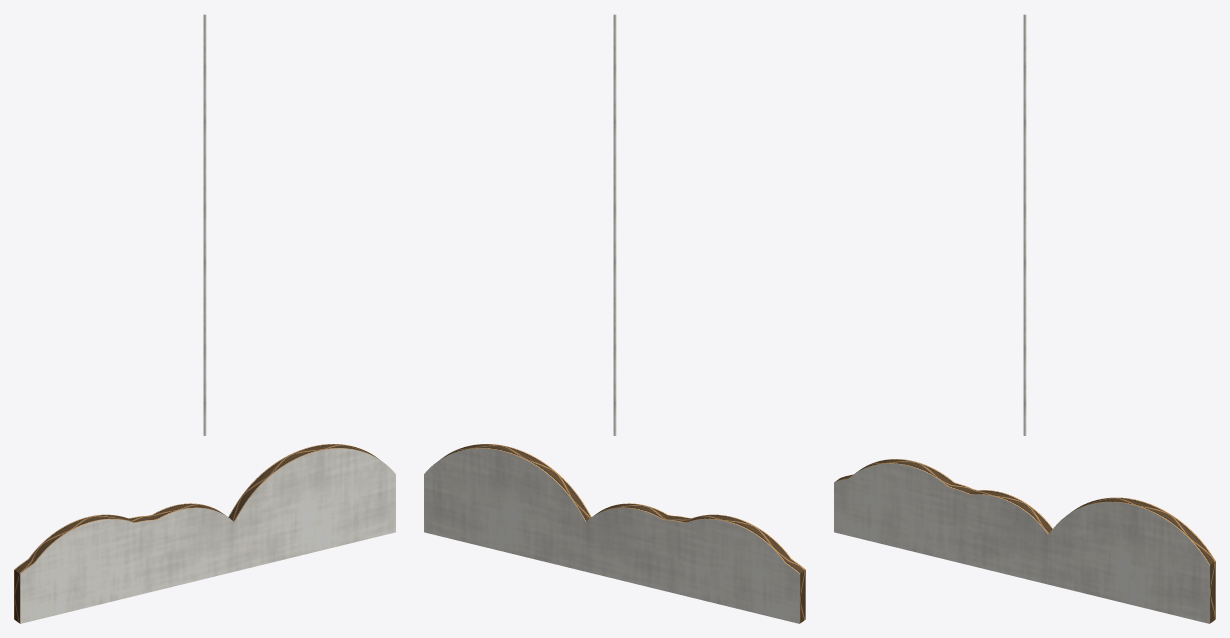
The model's file is cloud_cutout_00.gltf.
The picture shows the model from 3 angles, left to right: view 1: azimuth 30°, elevation 25°; view 2: azimuth 150°, elevation 25°; view 3: azimuth 330°, elevation 25°; orthographic projection.
Parts seen in each view (by area): view 1: cloud_cutout_00; view 2: cloud_cutout_00; view 3: cloud_cutout_00.
Part boxes in pixels (x1,y1,x2,y2): cloud_cutout_00: (14,14,395,623); cloud_cutout_00: (424,14,805,623); cloud_cutout_00: (834,14,1215,623).
Size of the model in its own units: 1.4 by 2 by 0.04.
Materials: 2 (2 with a texture image).
